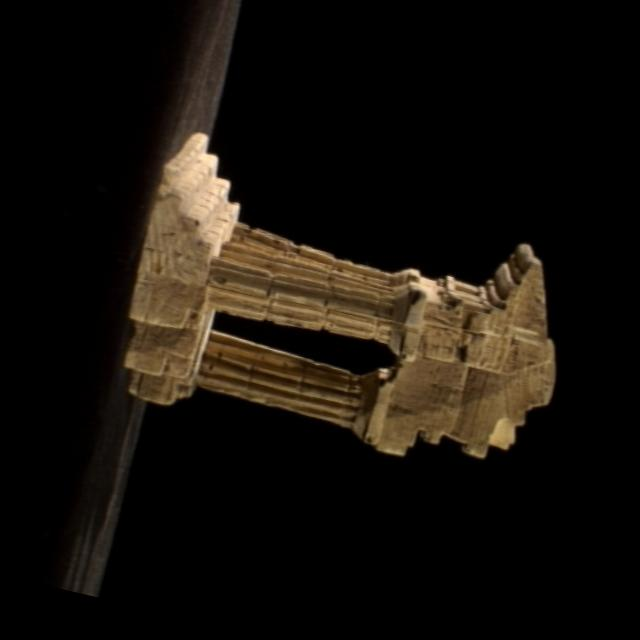Instance-Segmentation: (124, 134, 554, 457)
